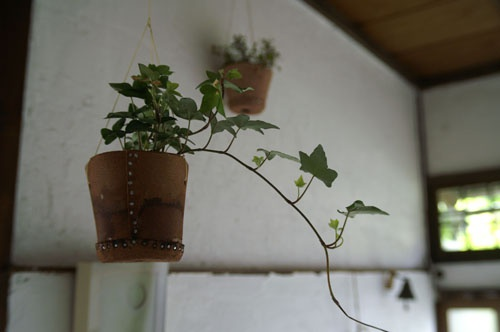flowerpot: (83, 152, 192, 264), (218, 63, 274, 115)
